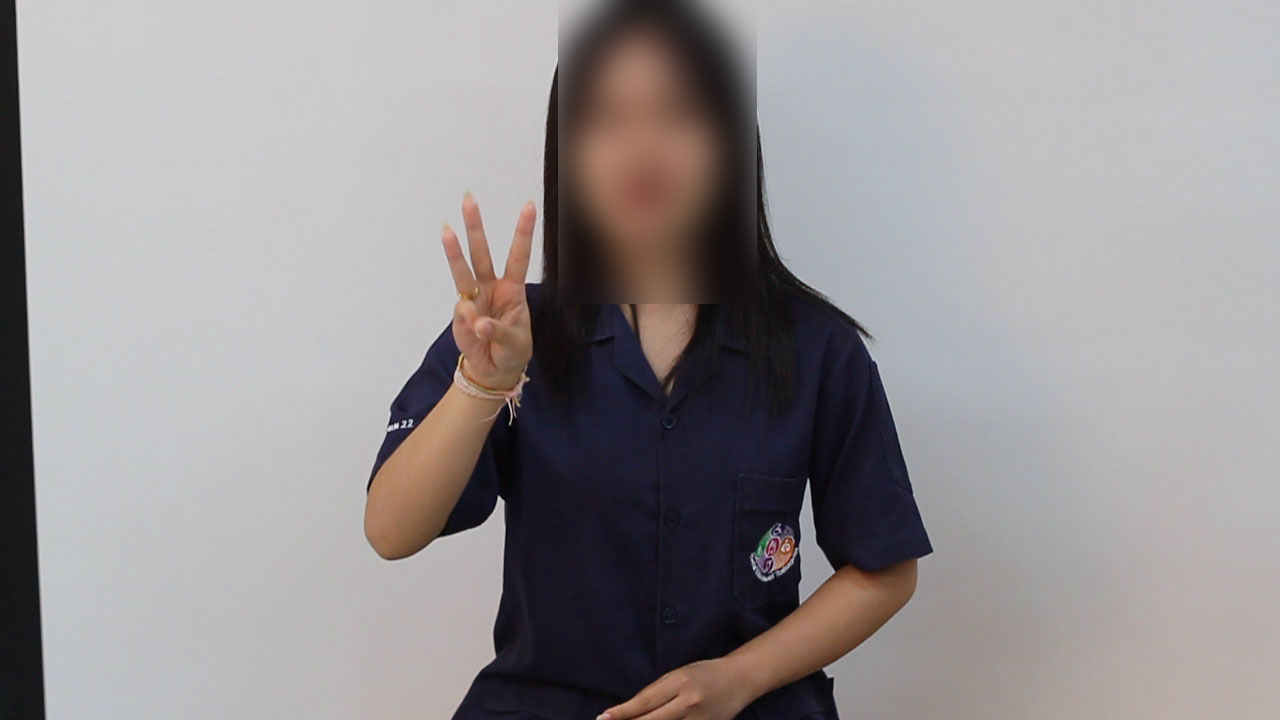wor: (428, 180, 545, 400)
